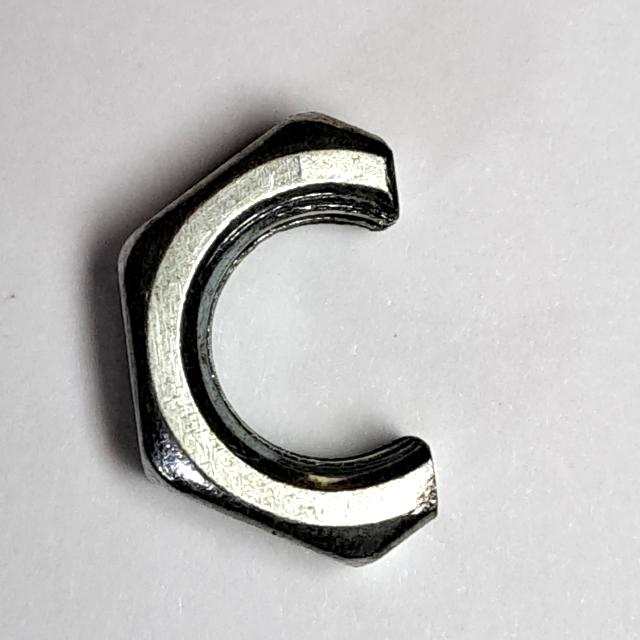Fracture: (106, 92, 460, 580)
